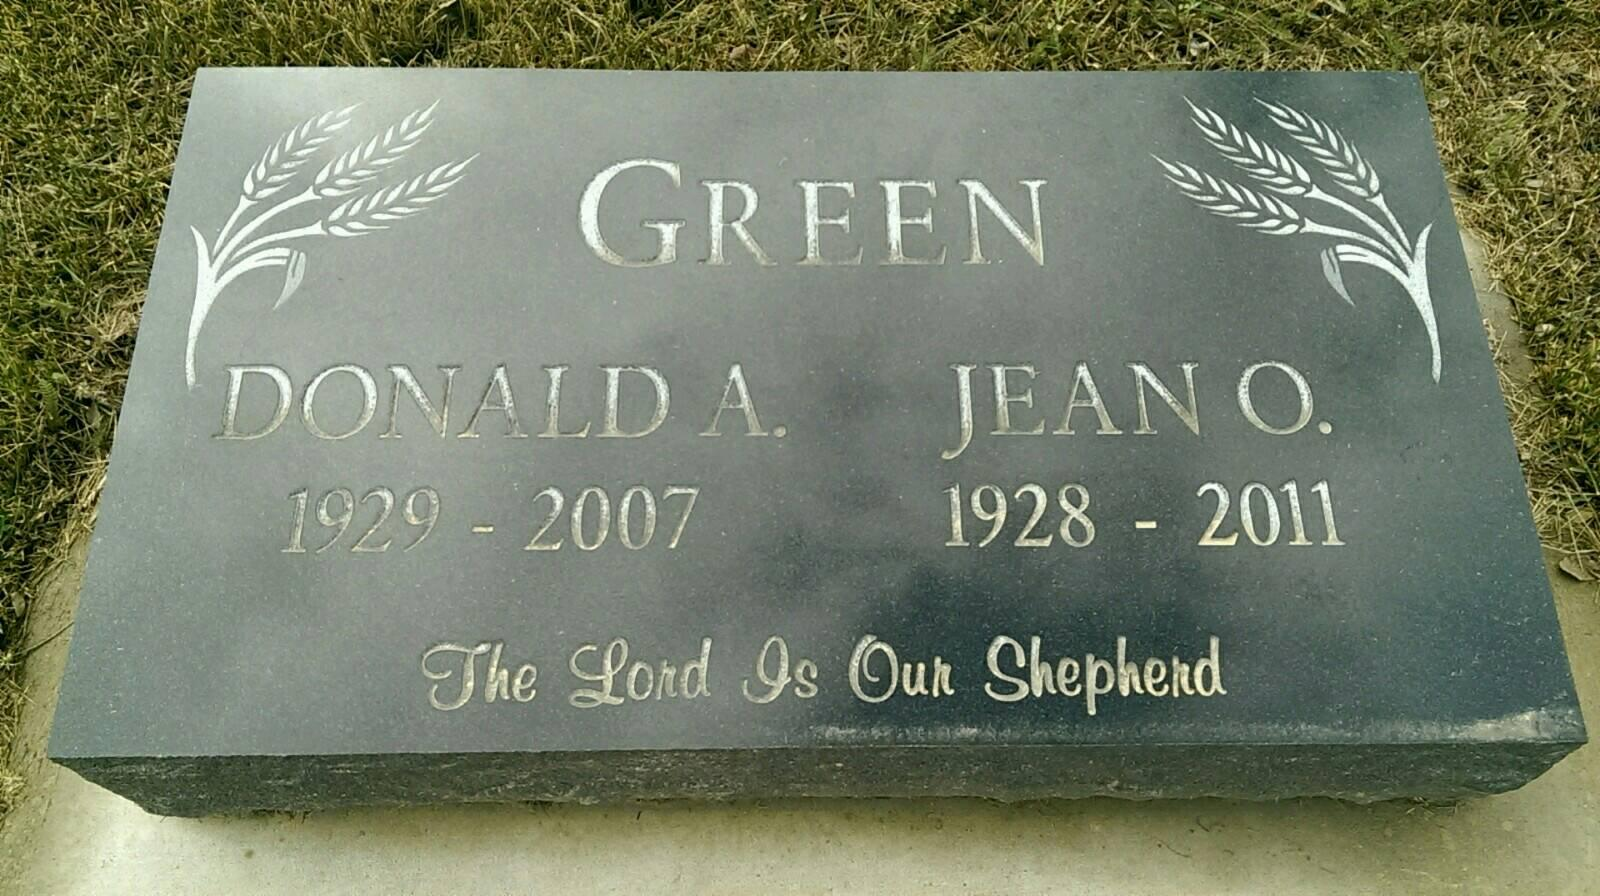flat: (48, 45, 1584, 808)
